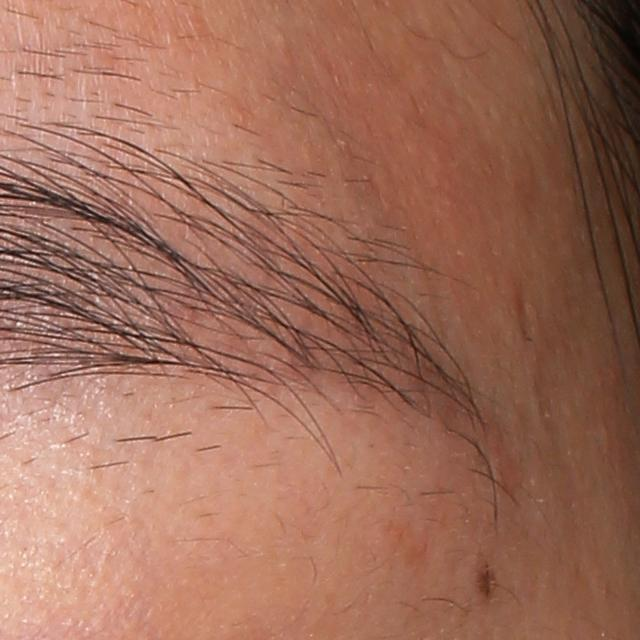nevus: (477, 551, 500, 600)
